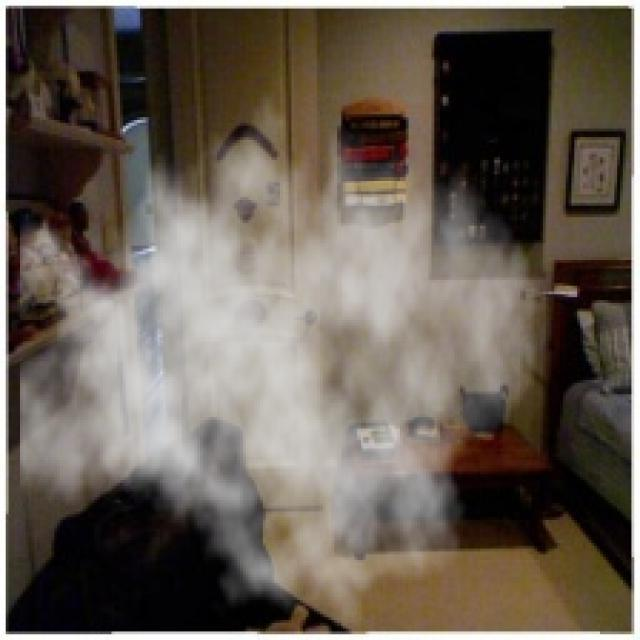Smoke: (20, 69, 540, 632)
